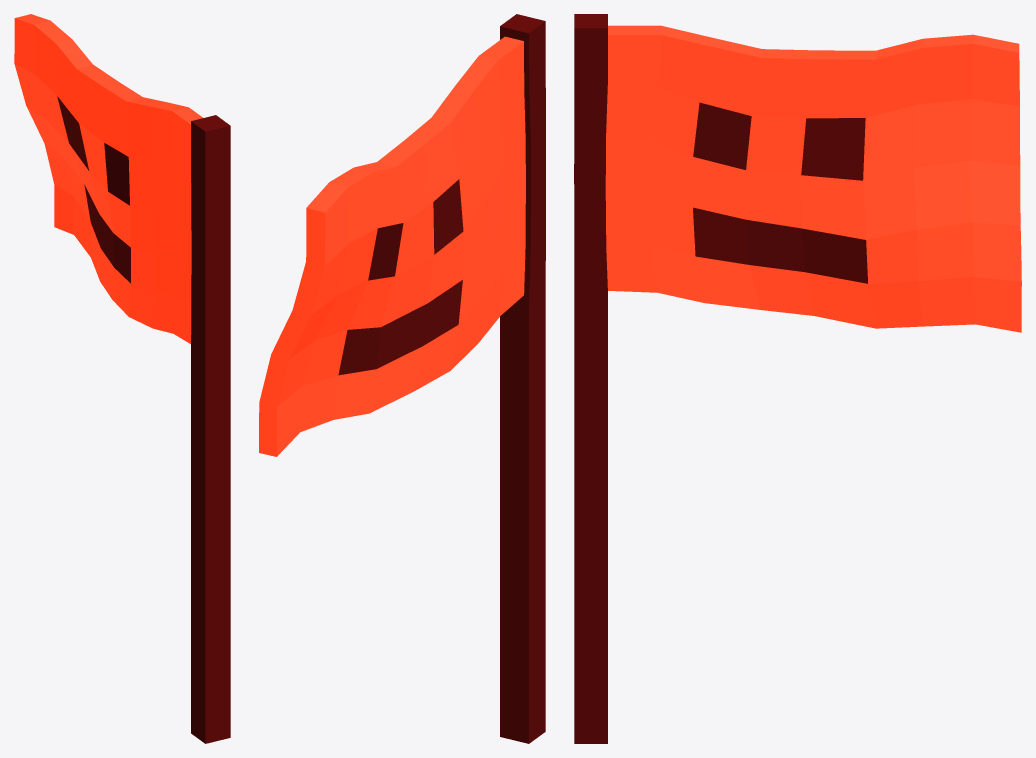
Rendered from ufo flag red.fbx.
3 renders of one model, left to right at view 1: azimuth 30°, elevation 25°; view 2: azimuth 150°, elevation 25°; view 3: azimuth 270°, elevation 25°, orthographic. The views are drawn at different scales.
Parts seen in each view (by area): view 1: Cube; view 2: Cube; view 3: Cube.
Part boxes in pixels (x1,y1,x2,y2): Cube: (14,14,230,743); Cube: (259,14,545,743); Cube: (574,14,1021,743).
Size of the model in its own units: 19.79 by 200 by 113.
